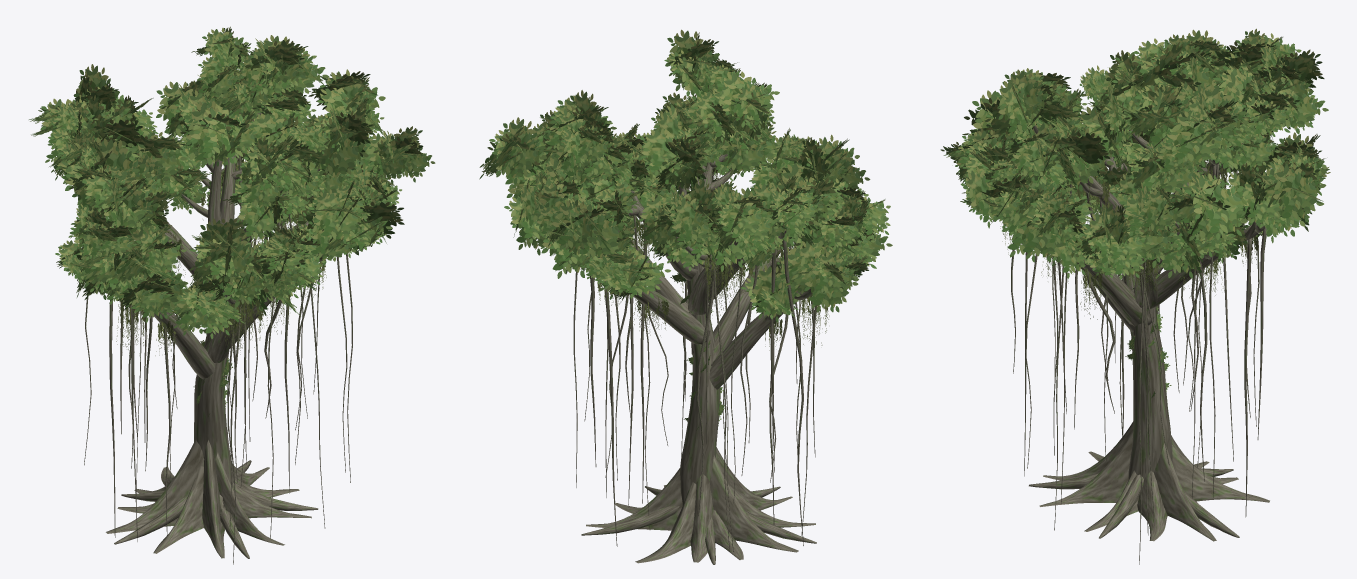
The model's file is ancient-tree-1.glb.
The picture shows the model from 3 angles, left to right: view 1: azimuth 30°, elevation 25°; view 2: azimuth 150°, elevation 25°; view 3: azimuth 270°, elevation 25°; orthographic projection. The views are drawn at different scales.
Visible parts, largest first — view 1: Wet canopy and moss, Old wood and air roots; view 2: Wet canopy and moss, Old wood and air roots; view 3: Wet canopy and moss, Old wood and air roots.
Part boxes in pixels (x1=…): Wet canopy and moss: x1=29, y1=26, x2=435, y2=430; Old wood and air roots: x1=84, y1=108, x2=352, y2=564; Wet canopy and moss: x1=479, y1=29, x2=892, y2=430; Old wood and air roots: x1=530, y1=94, x2=839, y2=564; Wet canopy and moss: x1=940, y1=28, x2=1330, y2=405; Old wood and air roots: x1=1011, y1=125, x2=1283, y2=564.
Size of the model in its own units: 40 by 45 by 35.82.
Materials: 2 (2 with a texture image).
